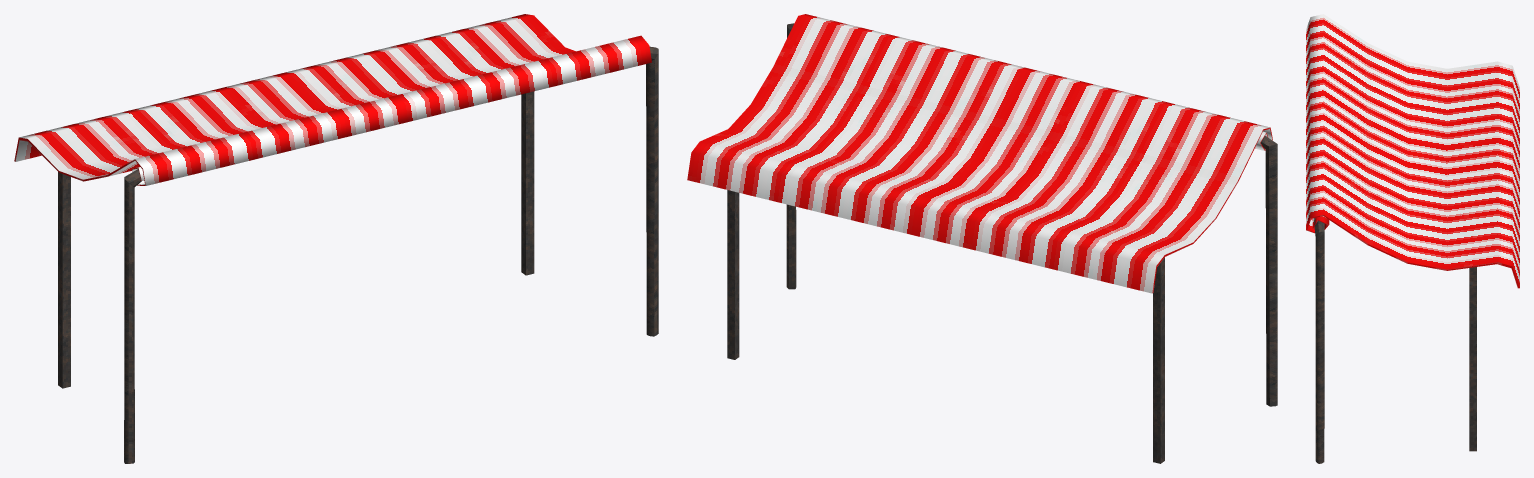
Rendered from GJ_Market_Stand_01.fbx.
The picture shows the model from 3 angles, left to right: view 1: azimuth 30°, elevation 25°; view 2: azimuth 150°, elevation 25°; view 3: azimuth 270°, elevation 25°; orthographic projection. The views are drawn at different scales.
Parts seen in each view (by area): view 1: GJ_Market_Stand_01; view 2: GJ_Market_Stand_01; view 3: GJ_Market_Stand_01.
Part boxes in pixels (bbox=[...]): GJ_Market_Stand_01: bbox=[14, 14, 658, 463]; GJ_Market_Stand_01: bbox=[687, 14, 1277, 463]; GJ_Market_Stand_01: bbox=[1306, 14, 1519, 463].
Size of the model in its own units: 422 by 226 by 180.
